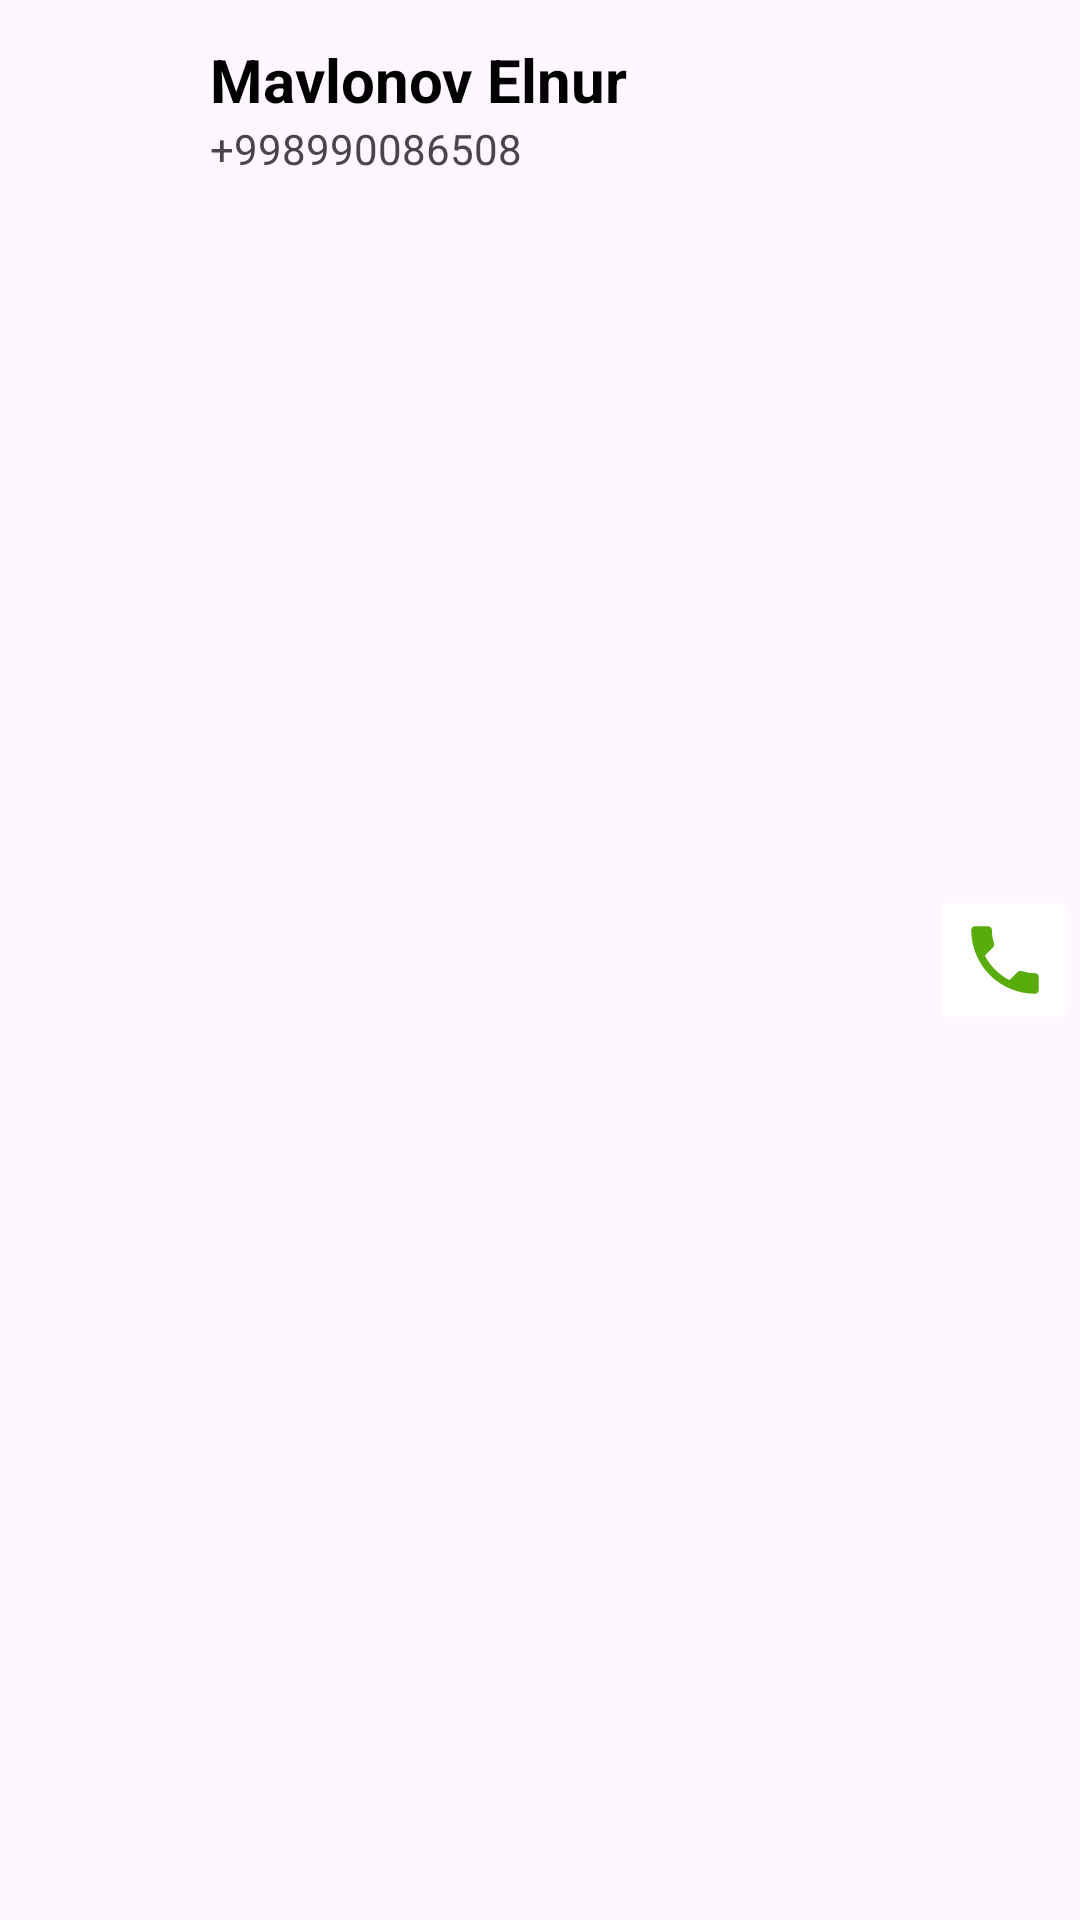

Icon bounding boxes for this 1080x1920 phone screenshot, format box=[x1, y1, x2, y2]:
phone: box=[971, 926, 1039, 994]
